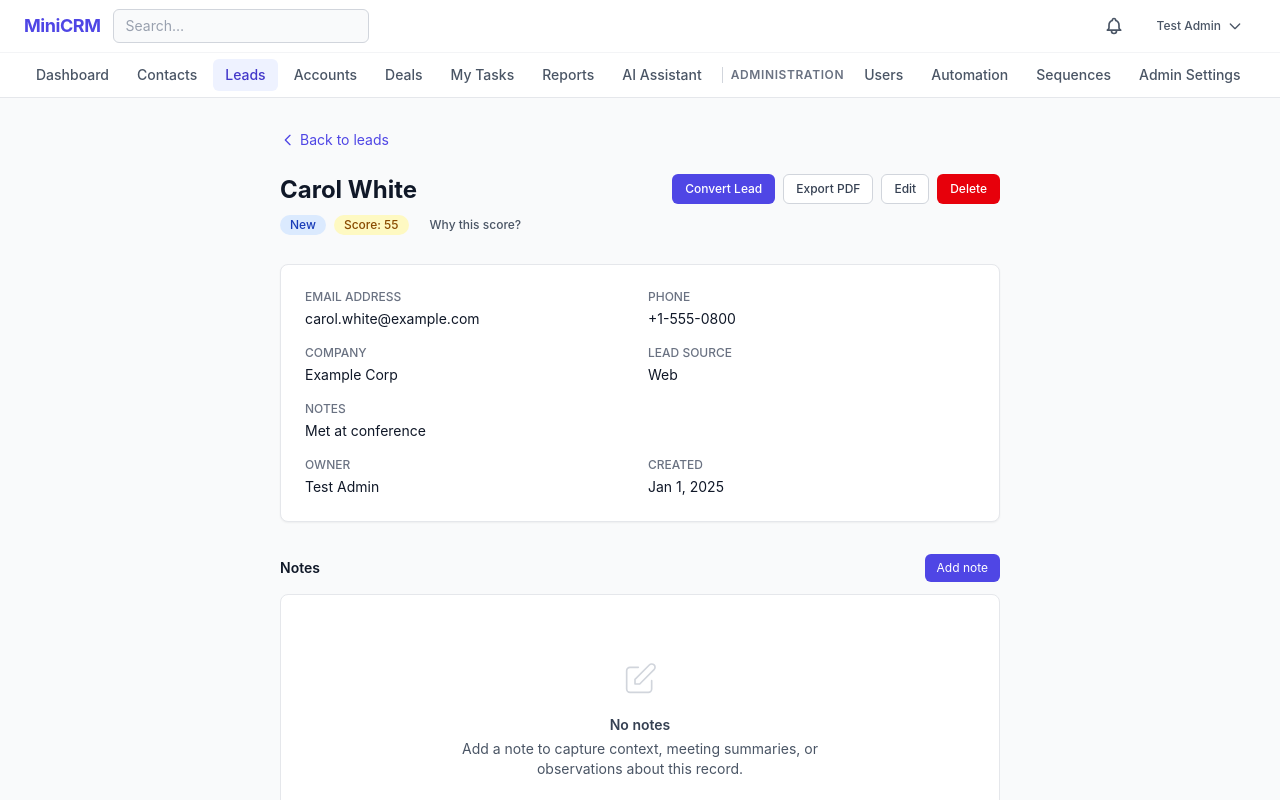
Test: LeadDetailPage › shows the edit form when Edit is clicked
Click the button with test id "edit-lead-button": (905, 189) [881,174,929,204]
(page scrolled)
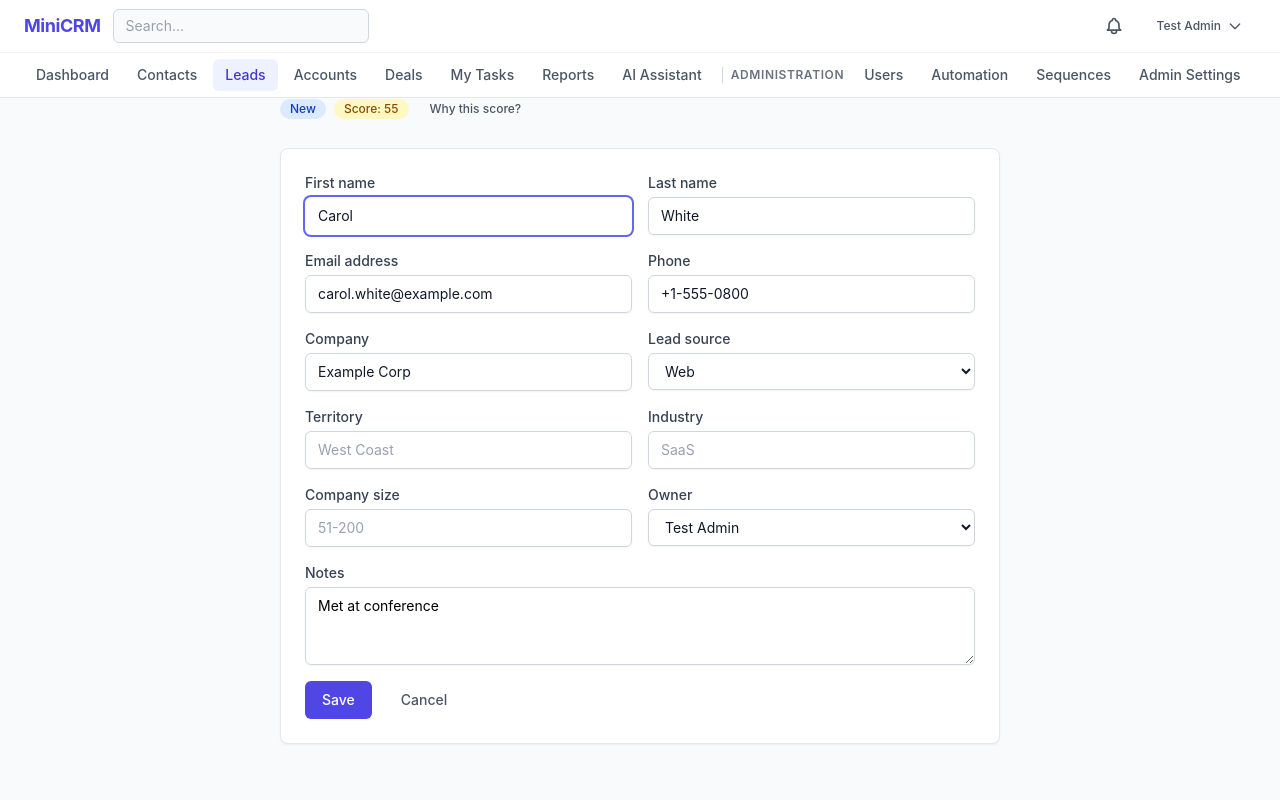
Expected: the form with test id "lead-form" is shown, [305,173,975,719]
